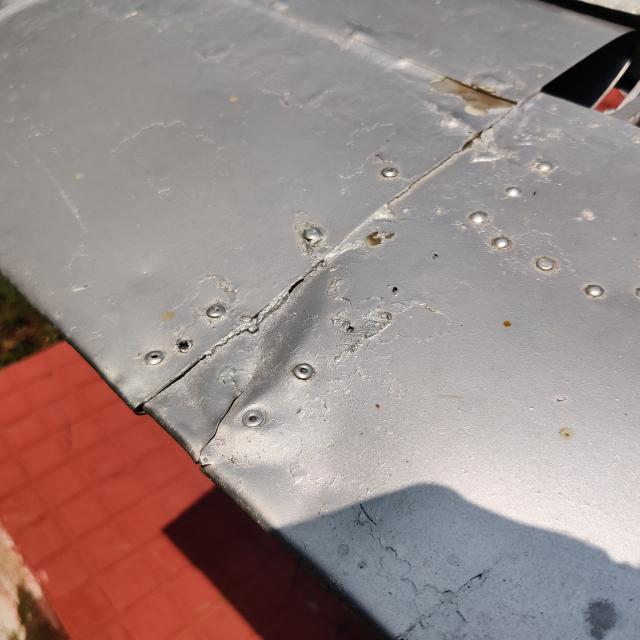crack: (190, 365, 271, 478)
paint-off: (420, 63, 527, 127), (361, 213, 403, 254)
